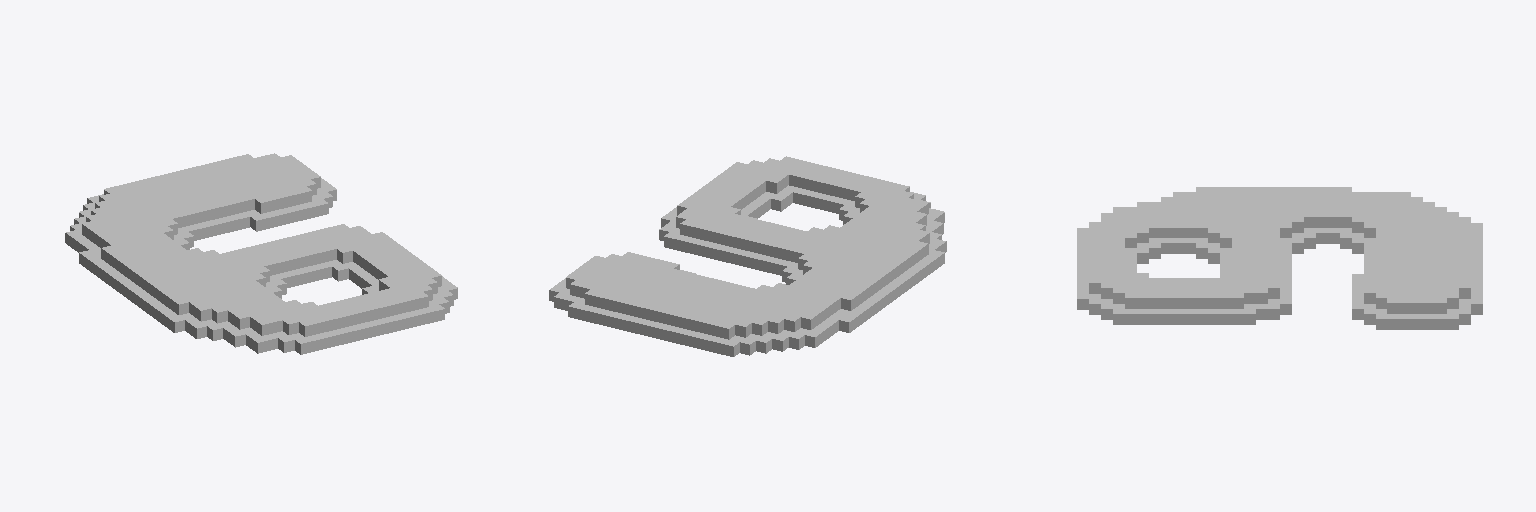
Rendered from six.obj.
3 renders of one model, left to right at view 1: azimuth 30°, elevation 25°; view 2: azimuth 150°, elevation 25°; view 3: azimuth 270°, elevation 25°, orthographic.
Parts seen in each view (by area): view 1: object 1; view 2: object 1; view 3: object 1.
Part boxes in pixels (x1,y1,x2,y2): object 1: (65,153,457,354); object 1: (549,156,946,356); object 1: (1077,187,1482,329).
Size of the model in its own units: 2.5 by 0.2 by 3.4.